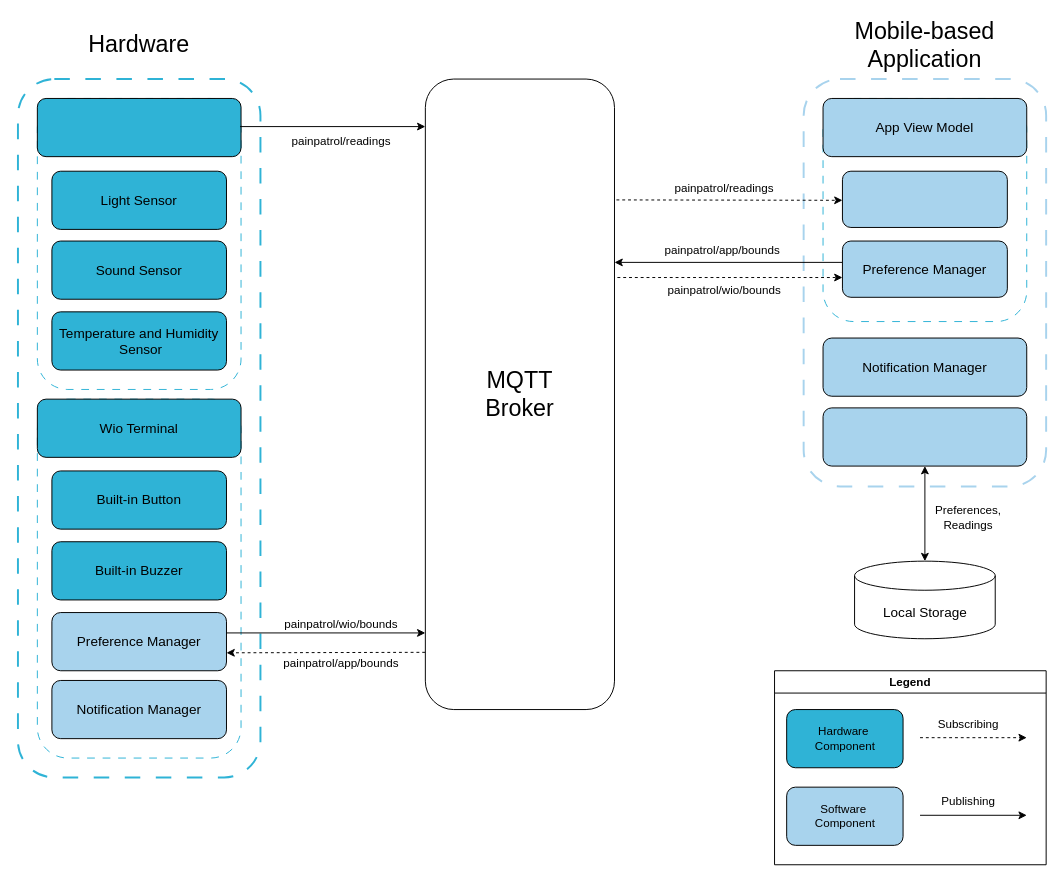
The diagram is 1063 pixels wide and 882 high, and some of its shapes have lost their labels. The centre of each missing label's shape, as x and y in pixels:
Environment Sensors: pixel 138 127
Readings Processor: pixel 924 198
Settings Manager: pixel 924 436
